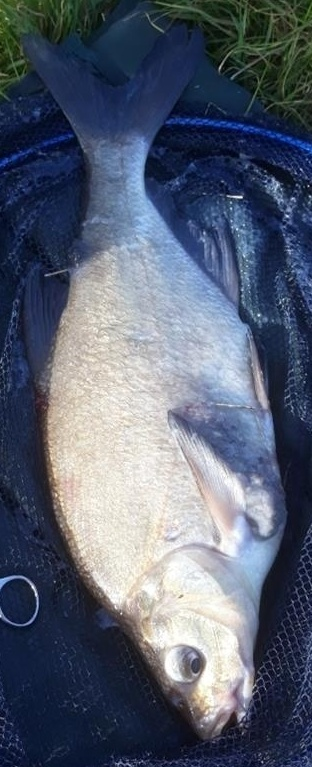Abramis brama: (20, 20, 292, 747)
